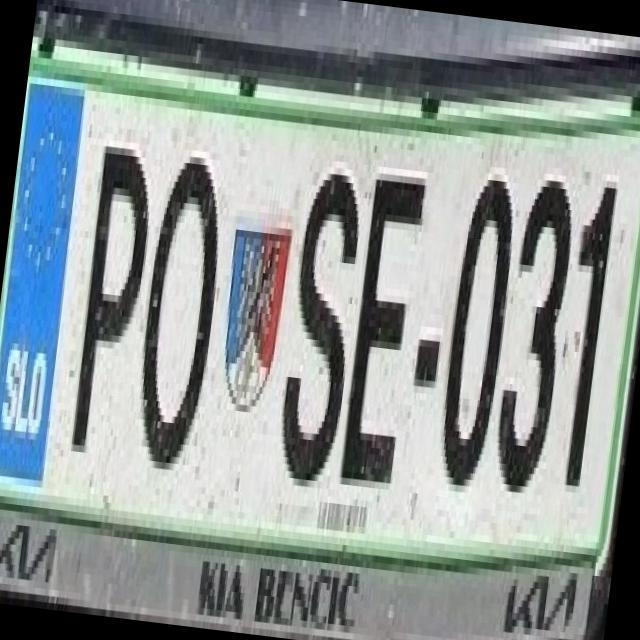0: (117, 126, 238, 480), (426, 144, 524, 488)
1: (540, 158, 630, 500)
3: (486, 150, 582, 494)
E: (324, 145, 436, 498)
P: (54, 118, 169, 471)
S: (261, 137, 373, 490)
